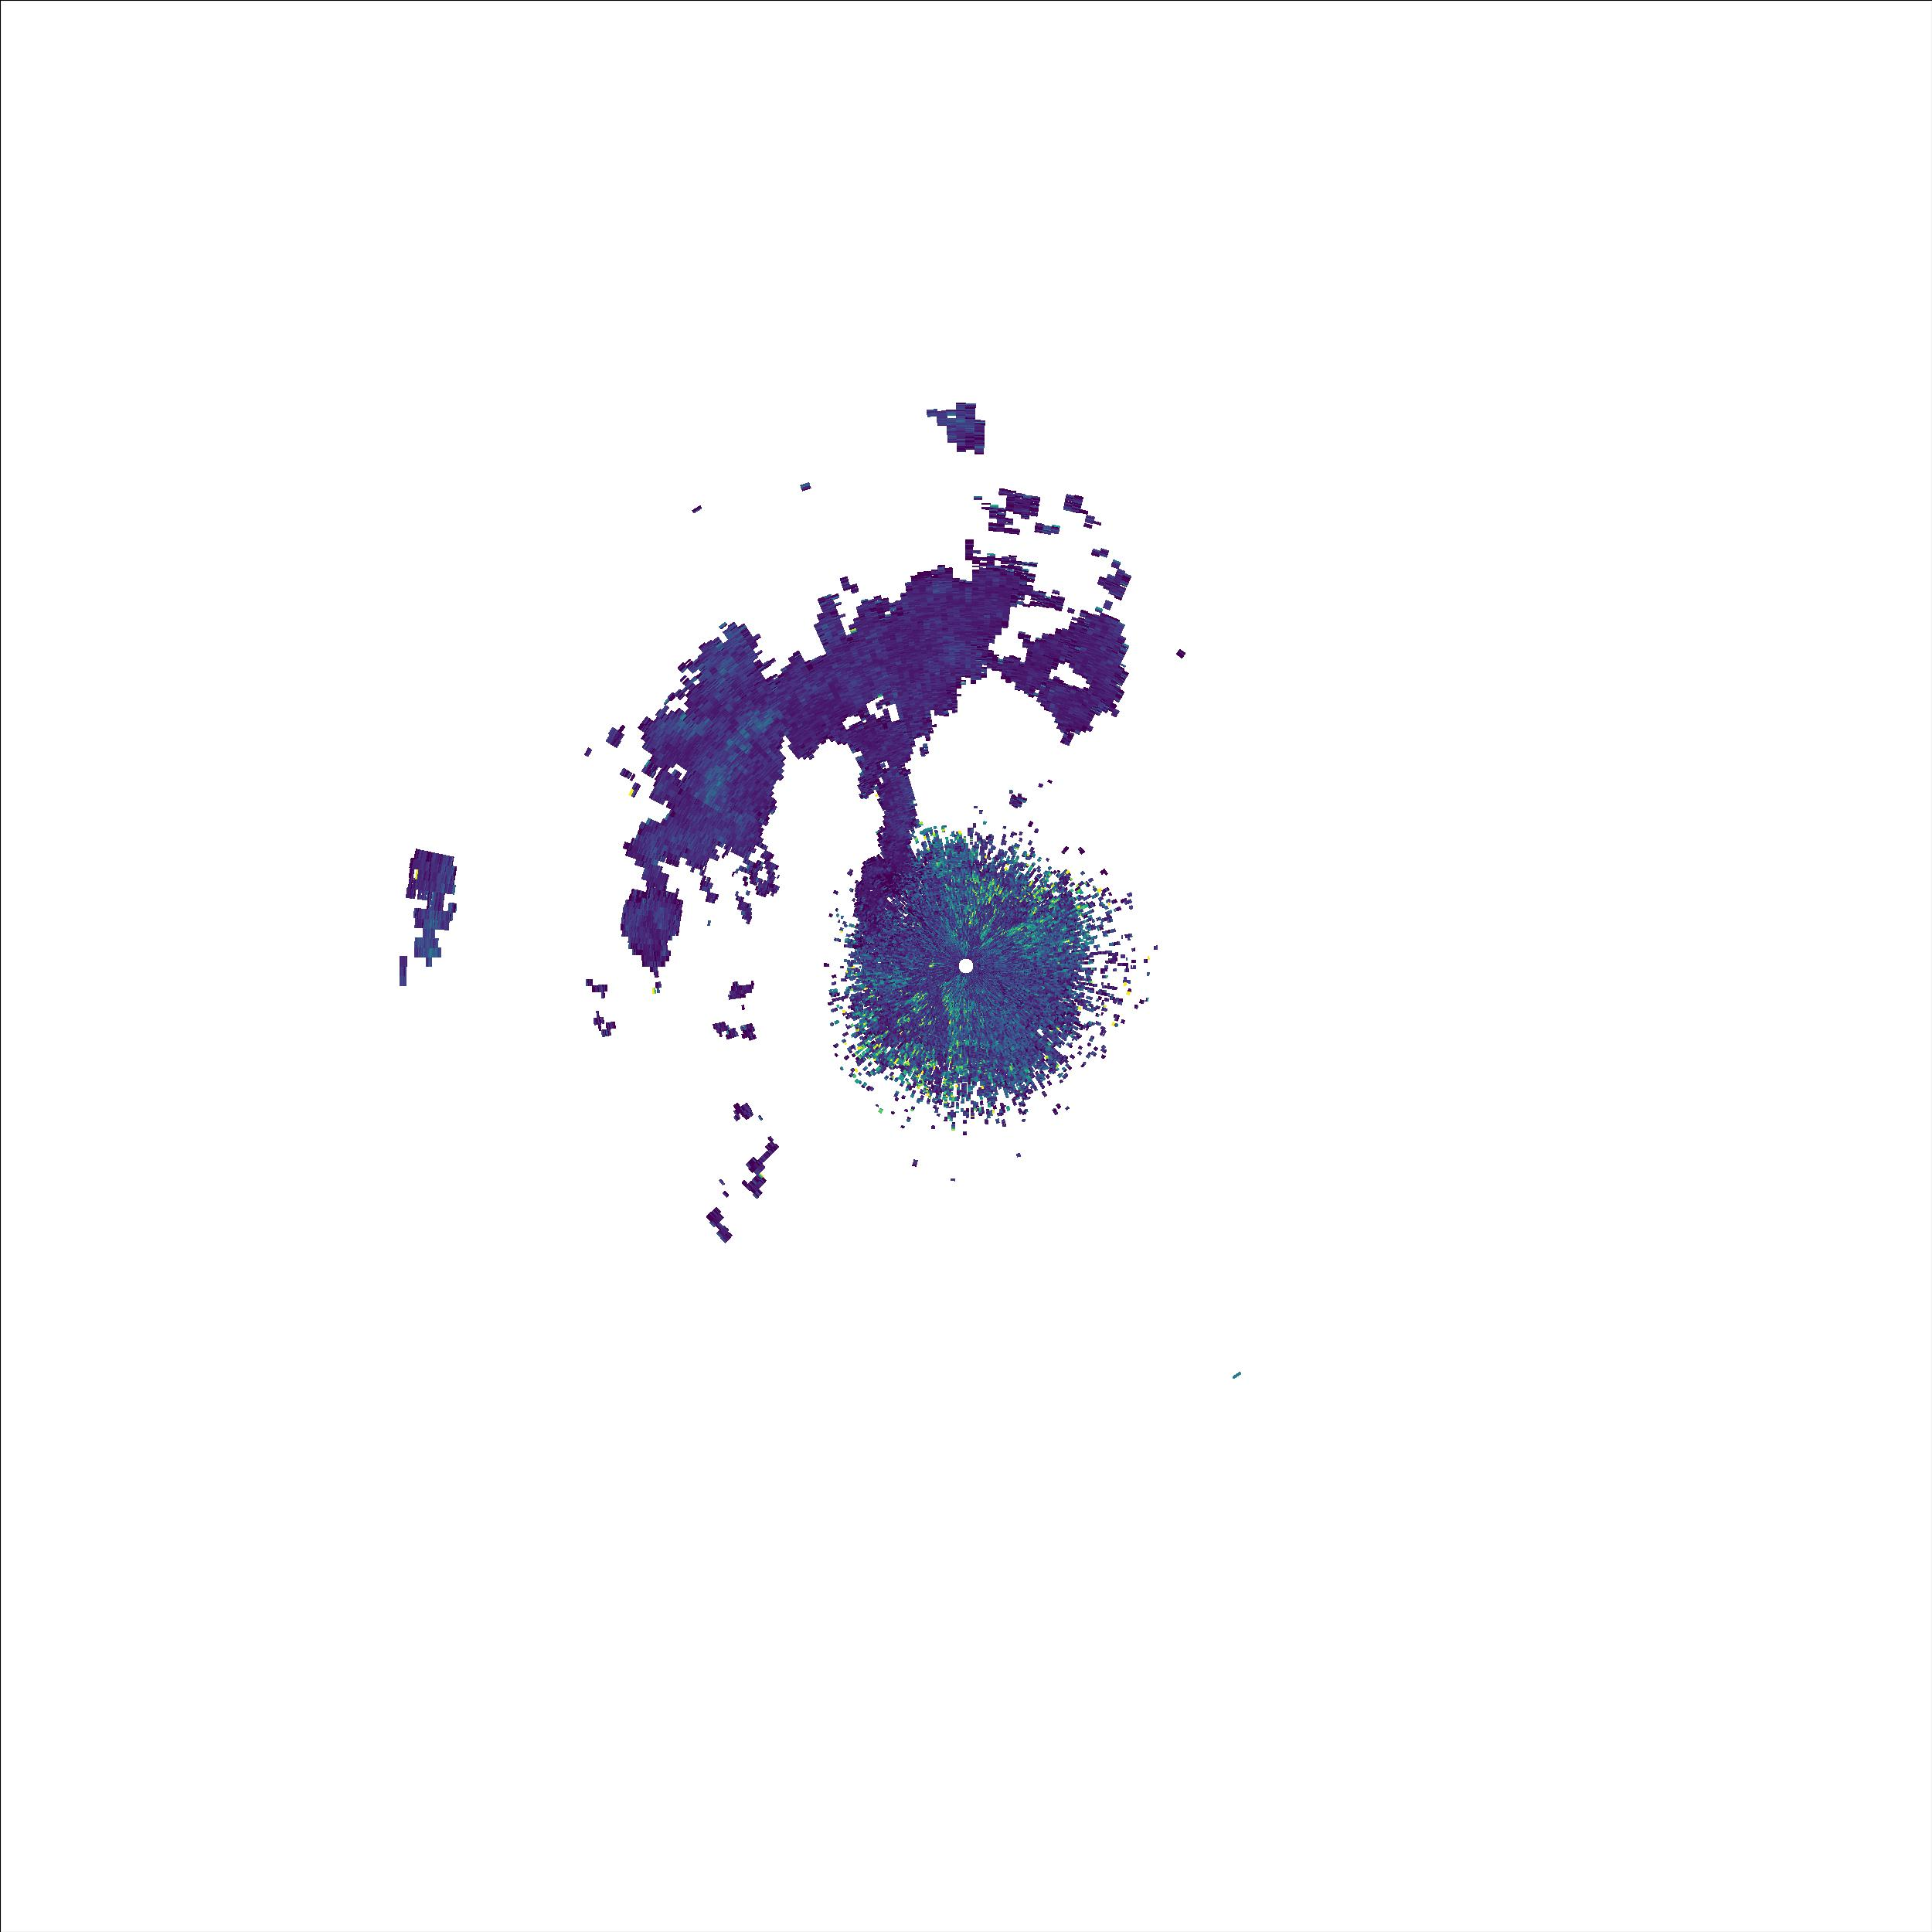fall: (1228, 1366, 1247, 1384)
